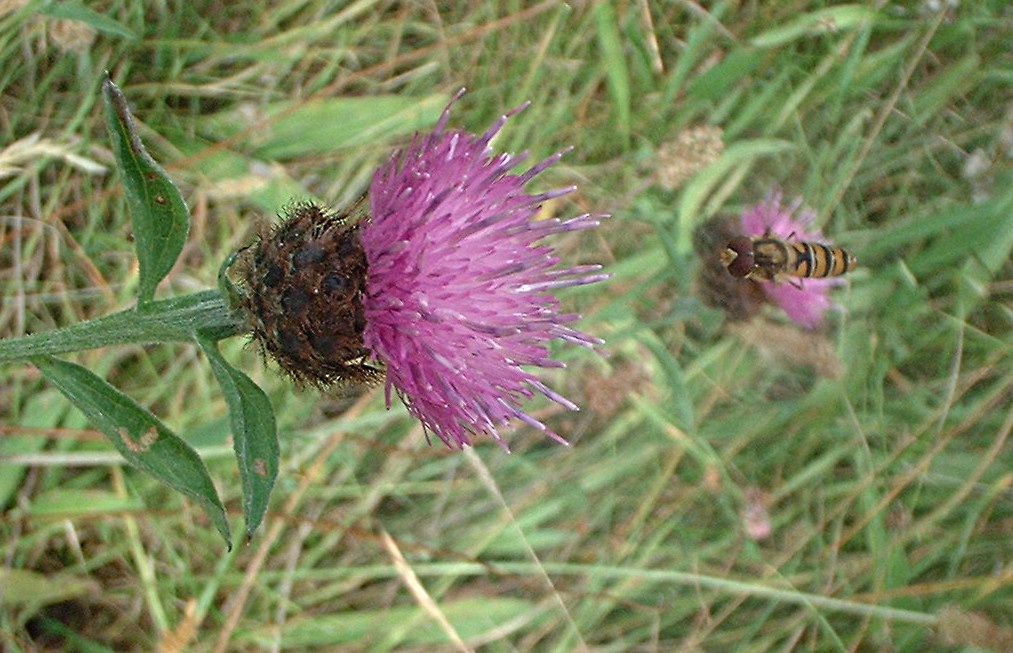thistle: (240, 94, 606, 455)
